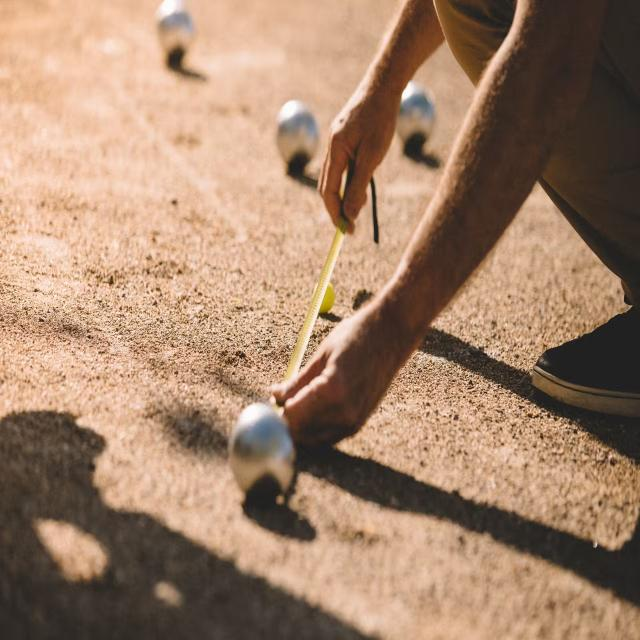hatball: (312, 282, 337, 313)
petanque: (226, 399, 302, 518), (264, 88, 324, 178), (392, 78, 440, 156), (149, 1, 202, 69)
